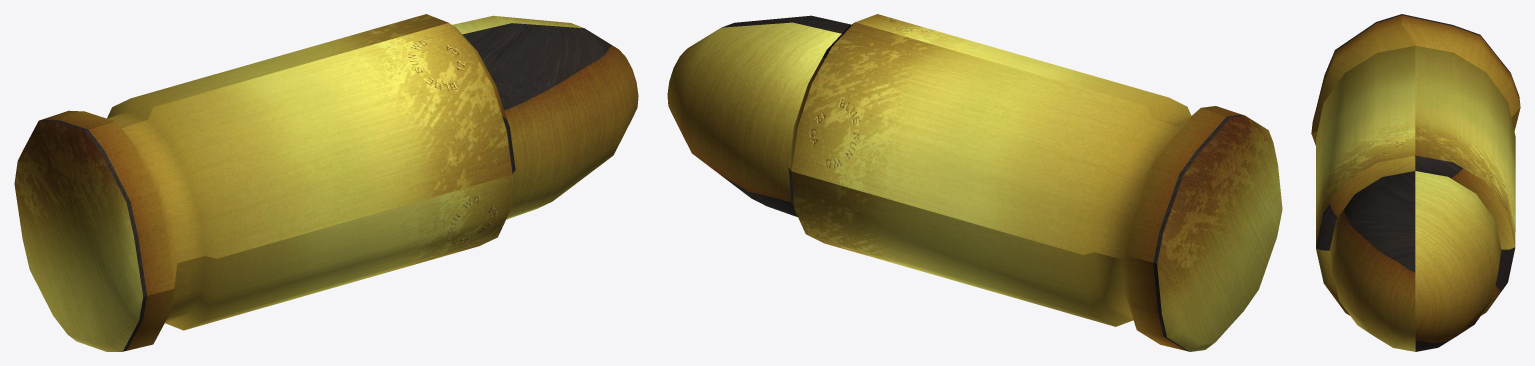
Rendered from bullet.obj.
The picture shows the model from 3 angles, left to right: view 1: azimuth 30°, elevation 25°; view 2: azimuth 150°, elevation 25°; view 3: azimuth 270°, elevation 25°; orthographic projection. The views are drawn at different scales.
Parts seen in each view (by area): view 1: con_prop_bullet_mesh.8; view 2: con_prop_bullet_mesh.8; view 3: con_prop_bullet_mesh.8.
Boxes of the visible parts, left/top/right/bottom form: con_prop_bullet_mesh.8: left=14, top=14, right=638, bottom=351; con_prop_bullet_mesh.8: left=667, top=14, right=1282, bottom=351; con_prop_bullet_mesh.8: left=1311, top=14, right=1520, bottom=351.
Size of the model in its own units: 0.0412 by 0.0165 by 0.0159.
1 material, 1 textured.
